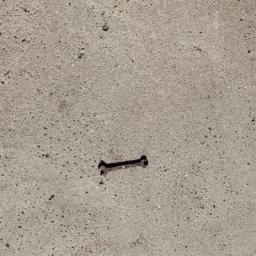FOD: (97, 154, 152, 179)
